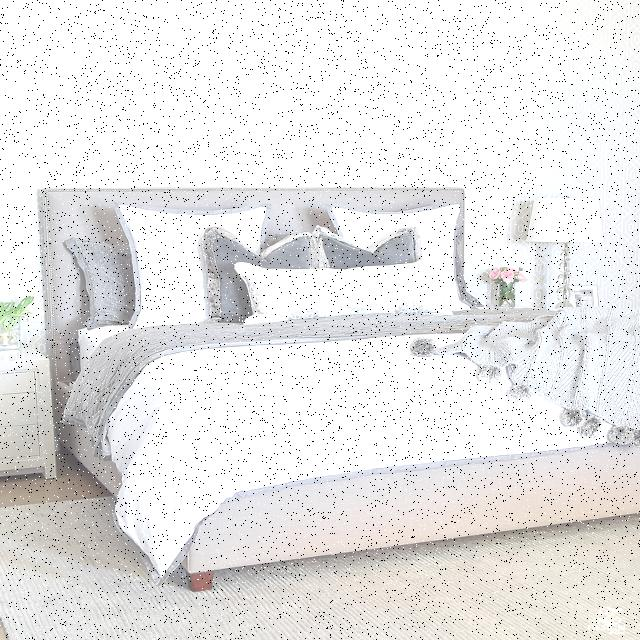bed: (35, 170, 640, 562)
